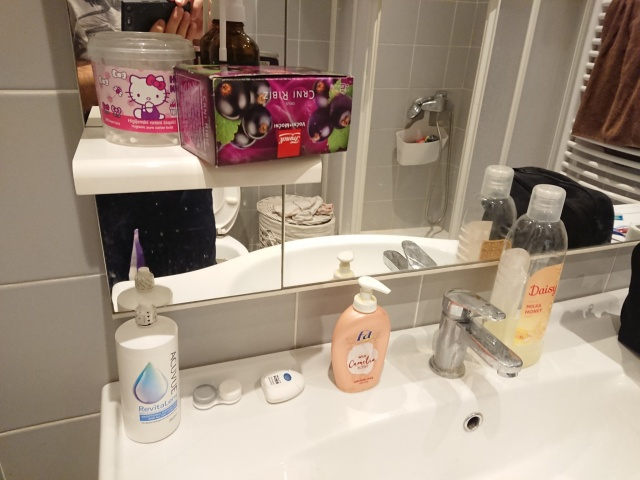Franck Black Currant Tea 60g: (170, 61, 357, 169)
